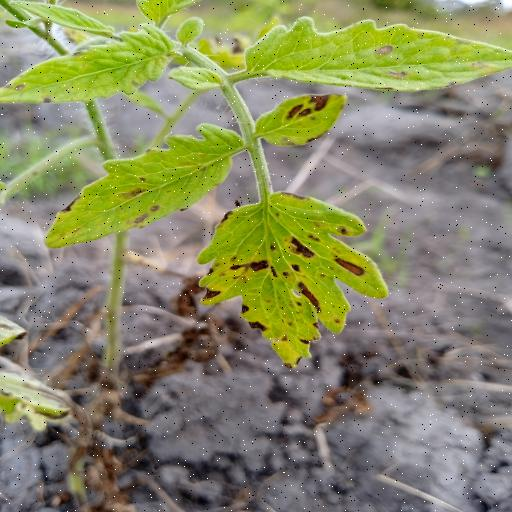Tomato_Brown_Spots: (197, 192, 391, 372), (45, 124, 253, 252), (240, 14, 512, 94), (0, 29, 182, 107), (255, 92, 349, 145)
